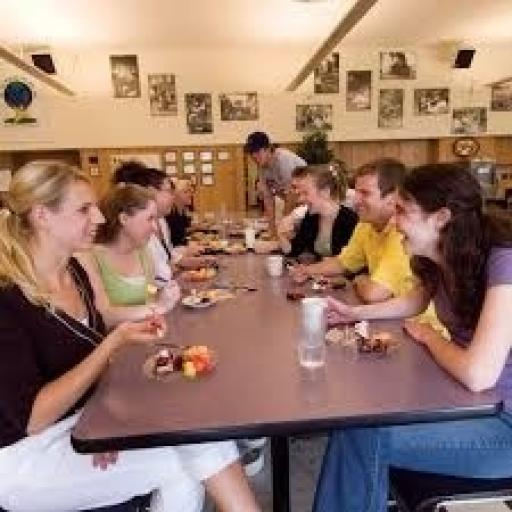eating: (0, 157, 273, 510), (305, 159, 510, 510)
